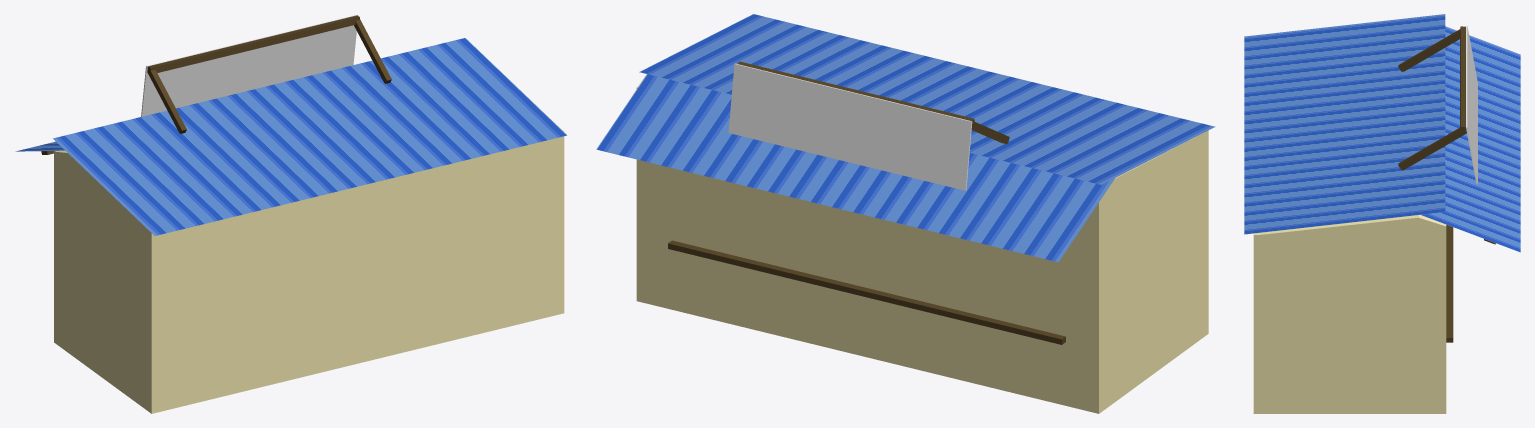
File: sarisarilabas.fbx
3 renders of one model, left to right at view 1: azimuth 30°, elevation 25°; view 2: azimuth 150°, elevation 25°; view 3: azimuth 270°, elevation 25°, orthographic. The views are drawn at different scales.
Parts seen in each view (by area): view 1: sarisarilabas, Plane, stallname, Cube.498, Cube.499; view 2: sarisarilabas, Plane.001, Plane, stallname, Plane.043, Cube.498; view 3: Plane, sarisarilabas, Plane.001, stallname, Cube.499, Plane.043, Cube.498.
Boxes of the visible parts, x1,y1,x2,y2 form: sarisarilabas: (54,53,564,413); Plane: (53,38,567,235); stallname: (141,14,358,116); Cube.498: (147,15,359,72); Cube.499: (147,19,391,133); sarisarilabas: (636,17,1208,413); Plane.001: (596,74,1114,262); Plane: (639,14,1215,184); stallname: (728,63,972,190); Plane.043: (668,240,1065,344); Cube.498: (737,61,974,121); Plane: (1244,14,1445,234); sarisarilabas: (1253,215,1446,413); Plane.001: (1421,26,1520,252); stallname: (1466,26,1477,184); Cube.499: (1398,29,1466,169); Plane.043: (1446,225,1453,342); Cube.498: (1460,26,1465,129).
Bounding box in the file's own units: 10.95 × 6.15 × 6.43.
Materials: 14 (1 with a texture image).
